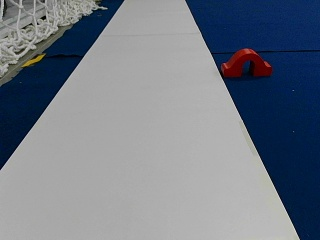bridge: (222, 48, 271, 75)
